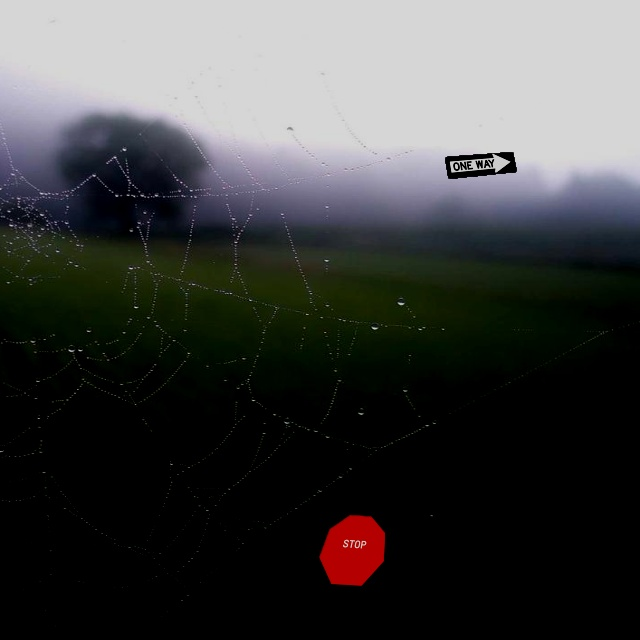ONE_WAY_ right: (444, 151, 517, 179)
STOP: (318, 514, 386, 587)
